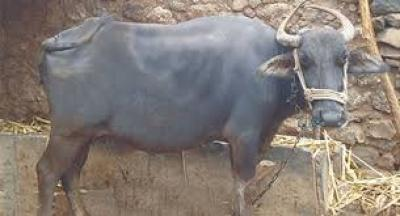buffalo: (38, 16, 294, 215), (293, 16, 350, 90)
